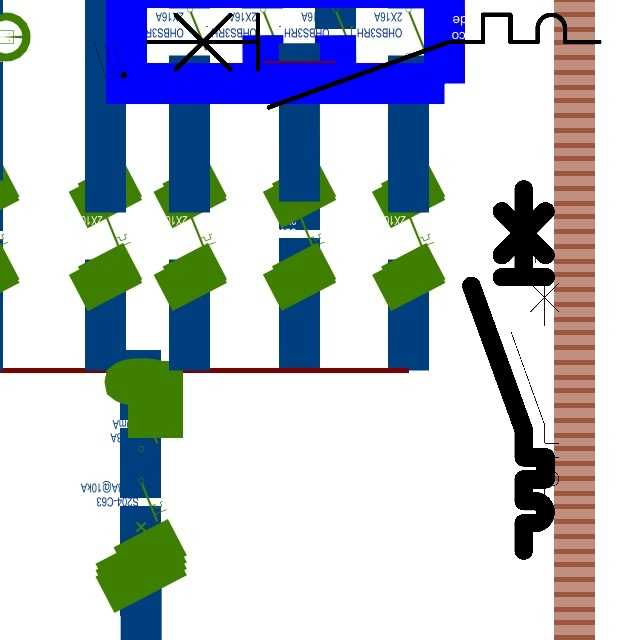interruptor_termomagnetico: (136, 3, 610, 119), (462, 180, 555, 560), (505, 262, 565, 509)
